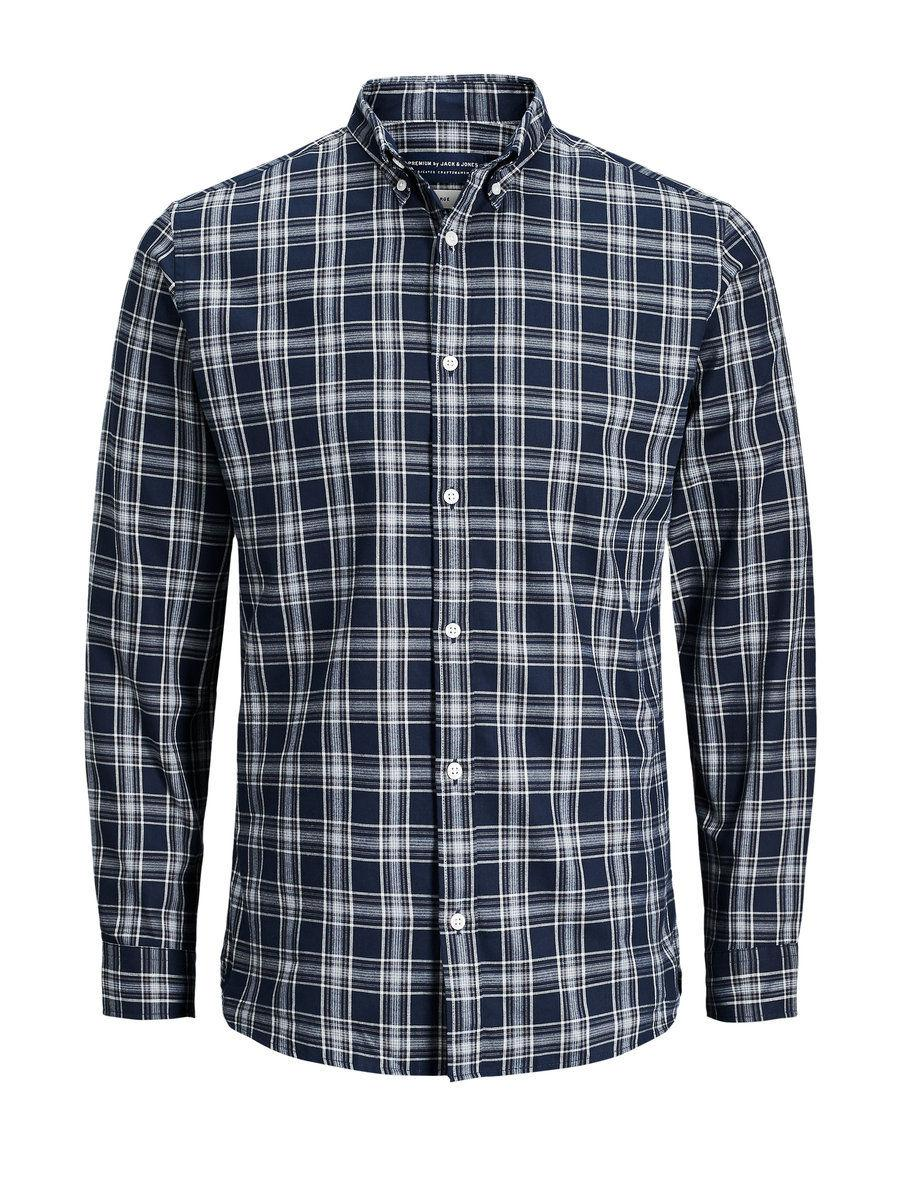teeshirt: (69, 67, 820, 1091)
